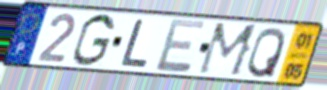2: (35, 12, 77, 65)
E: (153, 17, 208, 74)
G: (70, 12, 117, 68)
L: (117, 18, 150, 70)
M: (195, 21, 261, 79)
Q: (245, 26, 287, 80)
